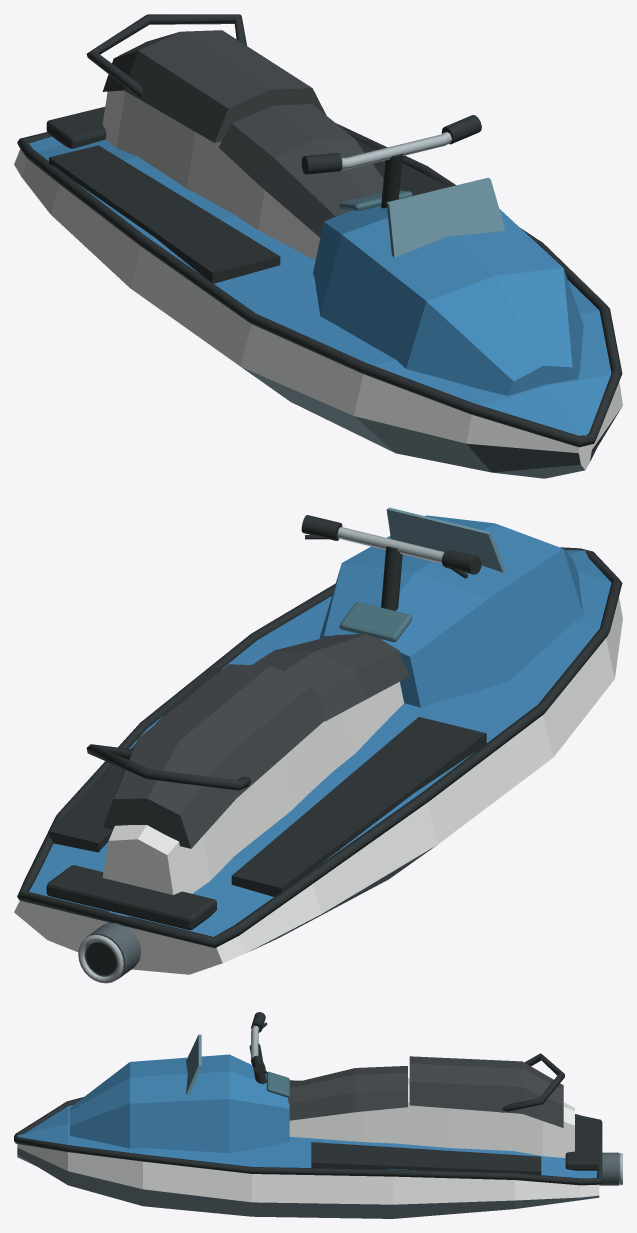
Rendered from watercraft_touring_two_seat.glb.
3 renders of one model, top to bottom at view 1: azimuth 30°, elevation 25°; view 2: azimuth 150°, elevation 25°; view 3: azimuth 270°, elevation 25°, orthographic. The views are drawn at different scales.
Visible parts, largest first — view 1: Touring_Watercraft_Closed_Hull_and_Deck, Touring_Watercraft_Long_Cowling, Touring_Watercraft_Raised_Passenger_Saddle, Touring_Watercraft_Front_Saddle, Touring_Watercraft_Seat_Pedestal, Touring_Watercraft_Footwell_-1, Touring_Watercraft_Attached_Deck_Rub_Rail, Touring_Watercraft_Short_Opaque_Windscreen, Touring_Watercraft_Passenger_Grab_Rail, Touring_Watercraft_Rear_Boarding_Pad, Touring_Watercraft_Handlebar, Touring_Watercraft_Footwell_1 (+3 smaller); view 2: Touring_Watercraft_Closed_Hull_and_Deck, Touring_Watercraft_Long_Cowling, Touring_Watercraft_Raised_Passenger_Saddle, Touring_Watercraft_Seat_Pedestal, Touring_Watercraft_Footwell_-1, Touring_Watercraft_Attached_Deck_Rub_Rail, Touring_Watercraft_Front_Saddle, Touring_Watercraft_Rear_Boarding_Pad, Touring_Watercraft_Footwell_1, Touring_Watercraft_Short_Opaque_Windscreen, Touring_Watercraft_Passenger_Grab_Rail, Touring_Watercraft_Instrument_Panel (+7 smaller); view 3: Touring_Watercraft_Closed_Hull_and_Deck, Touring_Watercraft_Long_Cowling, Touring_Watercraft_Seat_Pedestal, Touring_Watercraft_Raised_Passenger_Saddle, Touring_Watercraft_Attached_Deck_Rub_Rail, Touring_Watercraft_Footwell_1, Touring_Watercraft_Front_Saddle, Touring_Watercraft_Rear_Boarding_Pad, Touring_Watercraft_Passenger_Grab_Rail, Touring_Watercraft_Rear_Jet_Drive_Housing, Touring_Watercraft_Short_Opaque_Windscreen, Touring_Watercraft_Instrument_Panel.
Boxes of the visible parts, x1,y1,x2,y2 form: Touring_Watercraft_Closed_Hull_and_Deck: (14,136,622,478); Touring_Watercraft_Long_Cowling: (313,205,583,395); Touring_Watercraft_Raised_Passenger_Saddle: (102,30,326,142); Touring_Watercraft_Front_Saddle: (218,104,383,237); Touring_Watercraft_Seat_Pedestal: (102,90,320,260); Touring_Watercraft_Footwell_-1: (49,145,280,283); Touring_Watercraft_Attached_Deck_Rub_Rail: (17,123,622,447); Touring_Watercraft_Short_Opaque_Windscreen: (386,177,505,257); Touring_Watercraft_Passenger_Grab_Rail: (86,14,246,96); Touring_Watercraft_Rear_Boarding_Pad: (46,107,106,148); Touring_Watercraft_Handlebar: (341,132,452,169); Touring_Watercraft_Footwell_1: (354,138,448,195); Touring_Watercraft_Closed_Hull_and_Deck: (14,550,622,974); Touring_Watercraft_Long_Cowling: (319,515,583,707); Touring_Watercraft_Raised_Passenger_Saddle: (103,664,326,848); Touring_Watercraft_Seat_Pedestal: (102,681,403,894); Touring_Watercraft_Footwell_-1: (231,717,486,896); Touring_Watercraft_Attached_Deck_Rub_Rail: (17,547,622,947); Touring_Watercraft_Front_Saddle: (252,634,409,721); Touring_Watercraft_Rear_Boarding_Pad: (46,865,216,930); Touring_Watercraft_Footwell_1: (49,666,221,852); Touring_Watercraft_Short_Opaque_Windscreen: (386,507,505,572); Touring_Watercraft_Passenger_Grab_Rail: (86,744,251,790); Touring_Watercraft_Instrument_Panel: (339,602,412,642); Touring_Watercraft_Closed_Hull_and_Deck: (17,1104,599,1218); Touring_Watercraft_Long_Cowling: (70,1054,289,1153); Touring_Watercraft_Seat_Pedestal: (289,1078,574,1157); Touring_Watercraft_Raised_Passenger_Saddle: (409,1056,563,1127); Touring_Watercraft_Attached_Deck_Rub_Rail: (14,1080,602,1185); Touring_Watercraft_Footwell_1: (311,1142,541,1175); Touring_Watercraft_Front_Saddle: (287,1066,407,1120); Touring_Watercraft_Rear_Boarding_Pad: (565,1119,599,1170); Touring_Watercraft_Passenger_Grab_Rail: (502,1053,564,1112); Touring_Watercraft_Rear_Jet_Drive_Housing: (599,1152,619,1185); Touring_Watercraft_Short_Opaque_Windscreen: (186,1034,201,1094); Touring_Watercraft_Instrument_Panel: (266,1071,289,1097).
Size of the model in its own units: 1.2 by 0.9719 by 3.24.
